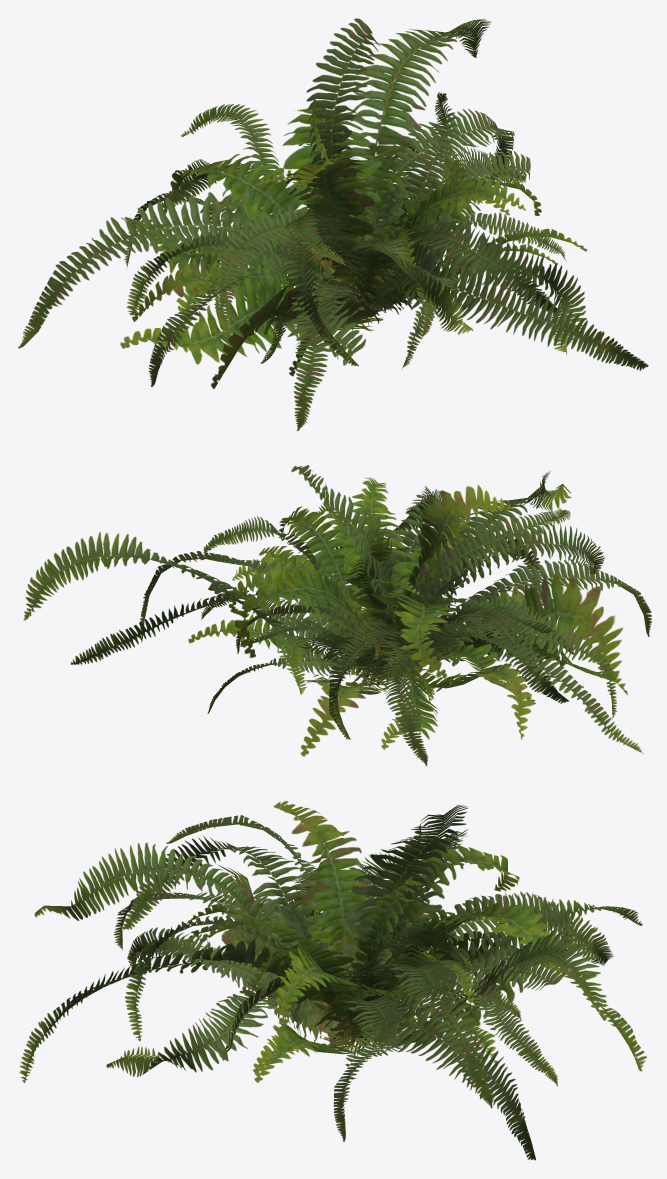
File: understory.glb
3 views of the same model, one above another, from view 1: azimuth 30°, elevation 25°; view 2: azimuth 150°, elevation 25°; view 3: azimuth 270°, elevation 25° (orthographic). The views are drawn at different scales.
Visible parts, largest first — view 1: fern_02_b, fern_02_c, fern_02_d, fern_02_a; view 2: fern_02_b, fern_02_c, fern_02_d, fern_02_a; view 3: fern_02_b, fern_02_c, fern_02_a, fern_02_d.
Part boxes in pixels (x1,y1,x2,y2): fern_02_b: (18,18,648,430); fern_02_c: (120,96,586,376); fern_02_d: (141,142,557,363); fern_02_a: (176,92,544,337); fern_02_b: (23,465,651,756); fern_02_c: (70,485,627,765); fern_02_d: (232,517,589,749); fern_02_a: (203,516,535,713); fern_02_b: (19,801,646,1141); fern_02_c: (106,815,642,1160); fern_02_a: (139,874,567,1086); fern_02_d: (187,868,593,1072).
Size of what is drawn, in the model's own units: 0.9897 by 0.4277 by 0.8937.
1 material, 1 textured.
